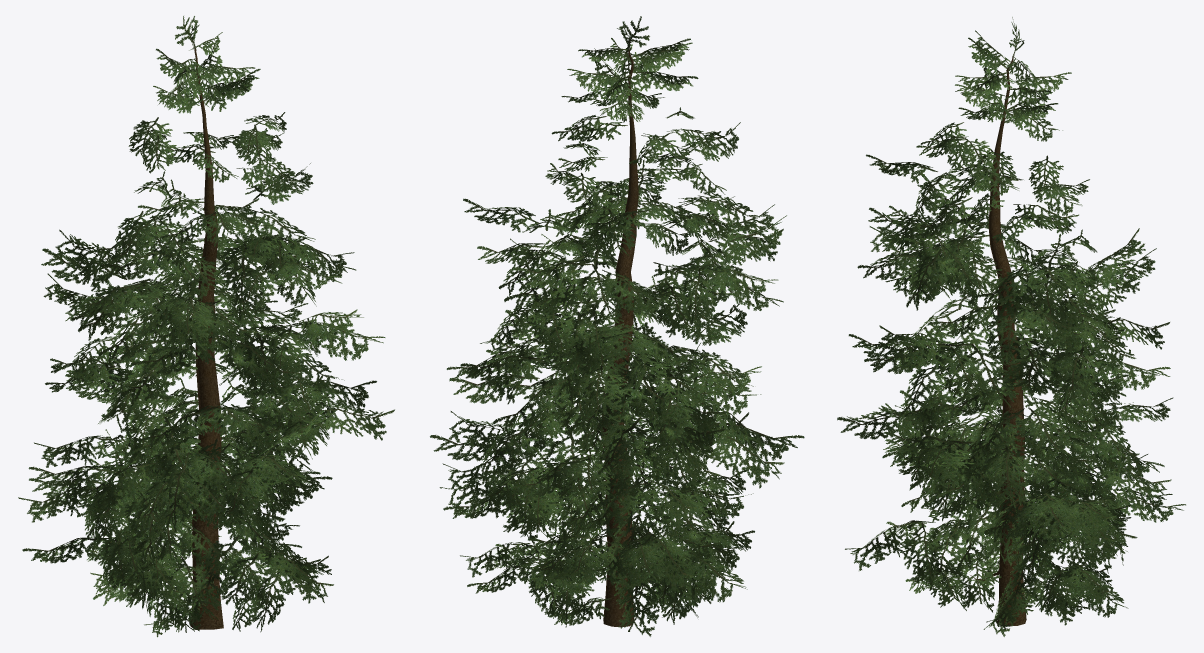
File: baum_fichte_1_lod1.glb
3 renders of one model, left to right at view 1: azimuth 30°, elevation 25°; view 2: azimuth 150°, elevation 25°; view 3: azimuth 270°, elevation 25°, orthographic. The views are drawn at different scales.
Visible parts, largest first — view 1: Krone, Stamm; view 2: Krone, Stamm; view 3: Krone, Stamm.
Part boxes in pixels (bbox=[...]): Krone: bbox=[18, 16, 394, 637]; Stamm: bbox=[190, 47, 223, 629]; Krone: bbox=[430, 16, 804, 636]; Stamm: bbox=[602, 49, 650, 627]; Krone: bbox=[837, 17, 1185, 636]; Stamm: bbox=[970, 55, 1026, 626].
Bounding box in the file's own units: 10.14 × 18.06 × 9.75.
Materials: 2 (2 with a texture image).
